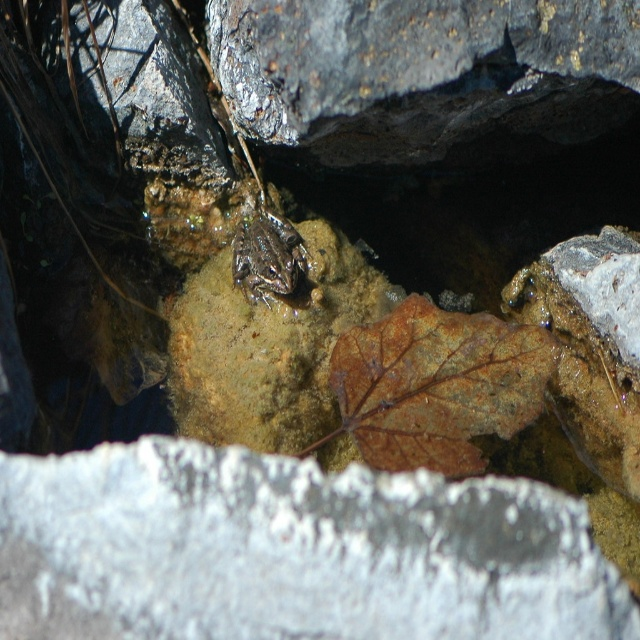Frog: (232, 203, 312, 308)
